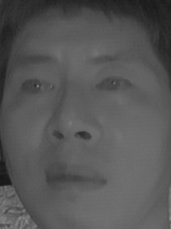eye: (94, 69, 132, 98), (18, 73, 56, 96)
mouth: (43, 156, 108, 198)
